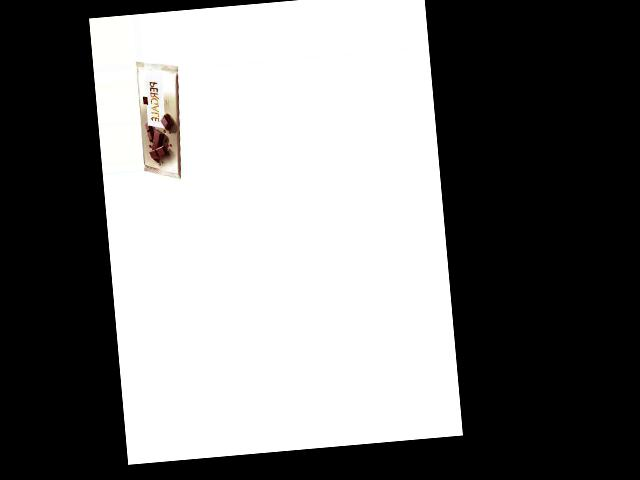chocolate: (135, 56, 186, 184)
